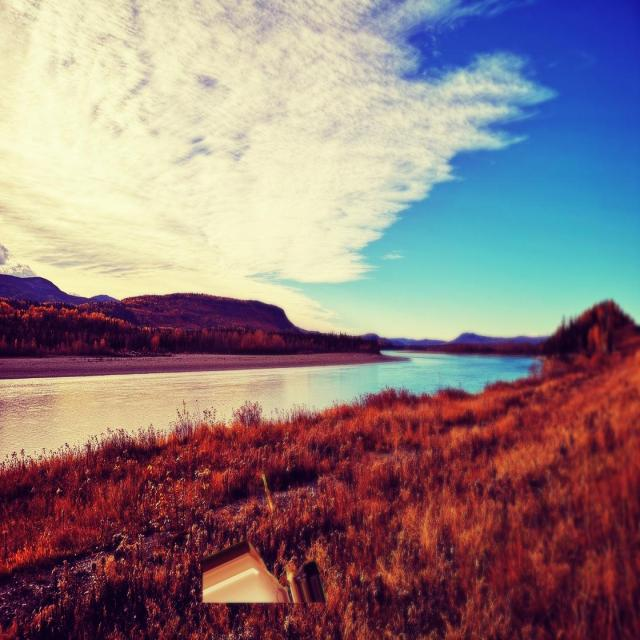airplane: (200, 541, 325, 603)
